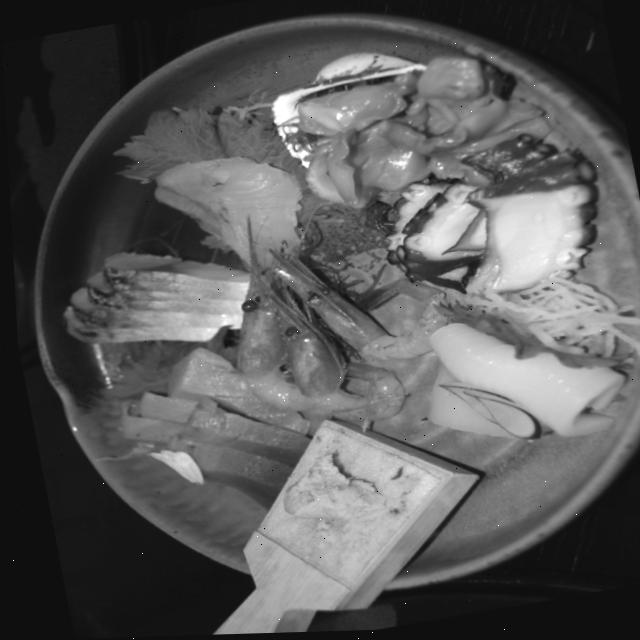刺身生食: (10, 107, 640, 591)
